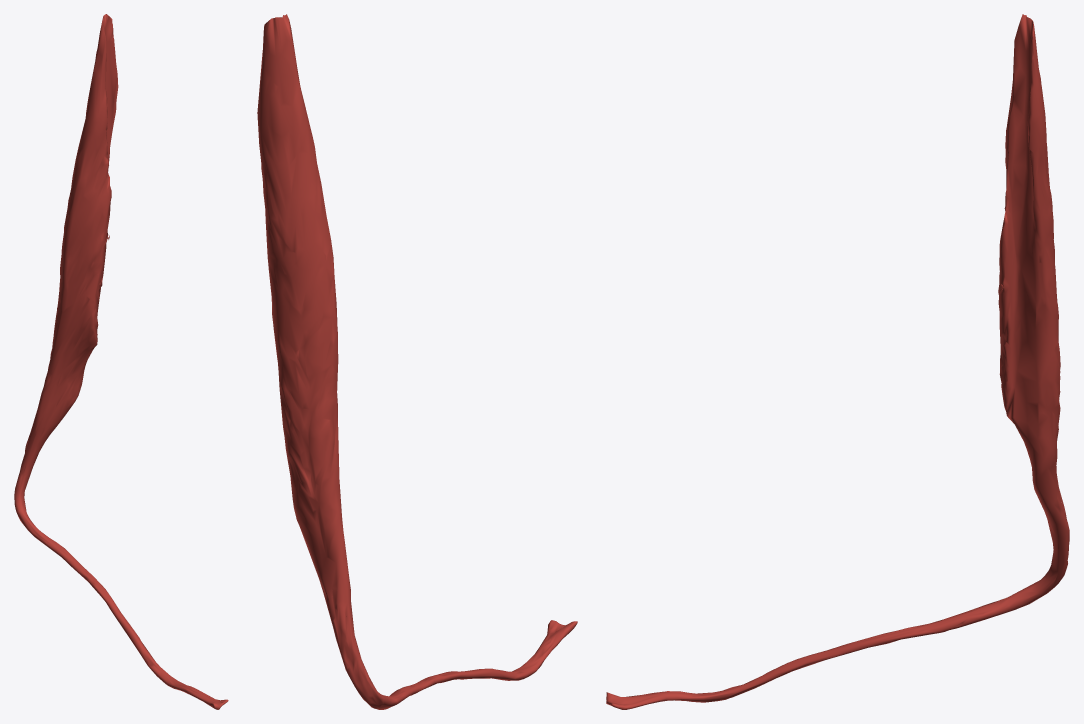
The model's file is musculos-flexor-hallucis-longus-l.glb.
3 renders of one model, left to right at view 1: azimuth 30°, elevation 25°; view 2: azimuth 150°, elevation 25°; view 3: azimuth 270°, elevation 25°, orthographic. The views are drawn at different scales.
Visible parts, largest first — view 1: Flexor hallucis longus.l; view 2: Flexor hallucis longus.l; view 3: Flexor hallucis longus.l.
Boxes of the visible parts, x1,y1,x2,y2 form: Flexor hallucis longus.l: [14, 14, 228, 709]; Flexor hallucis longus.l: [257, 14, 577, 709]; Flexor hallucis longus.l: [606, 14, 1069, 709].
Bounding box in the file's own units: 0.0566 × 0.3177 × 0.1847.
